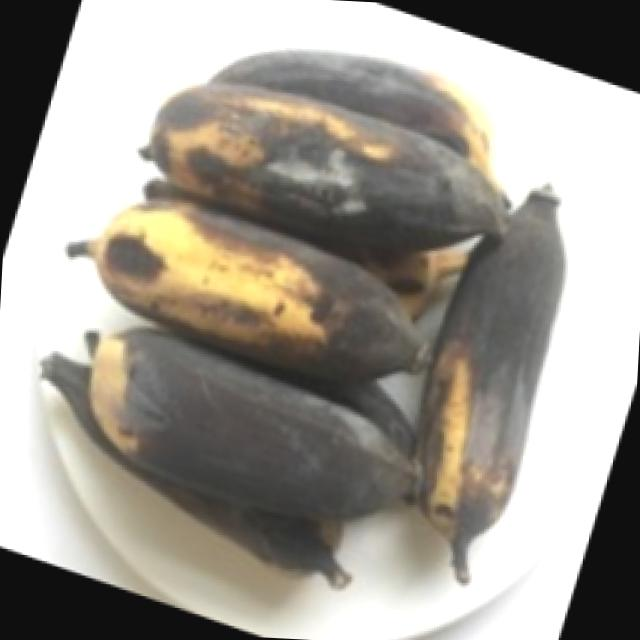Rotten_Banana: (38, 198, 476, 372)
